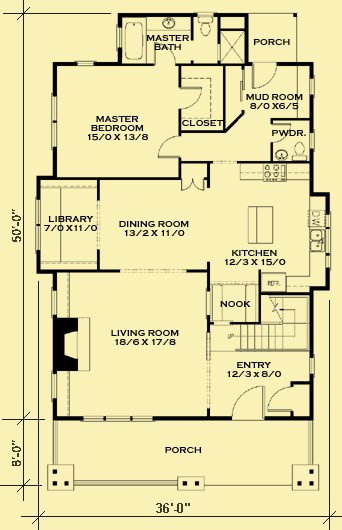door: (231, 383, 270, 423), (249, 60, 282, 92), (266, 382, 294, 414), (177, 82, 204, 111), (155, 131, 180, 159), (176, 174, 208, 193)
large sink: (196, 15, 216, 39), (289, 140, 307, 162)
small sink: (148, 15, 195, 33), (269, 149, 293, 163)
stairs: (205, 321, 310, 355)
tub: (121, 17, 150, 64)
windows: (76, 411, 155, 427), (321, 211, 338, 274), (30, 195, 47, 251), (48, 90, 62, 156), (47, 368, 60, 406), (113, 18, 124, 52), (49, 283, 60, 316), (307, 127, 319, 153), (74, 58, 97, 70), (305, 74, 317, 95)
